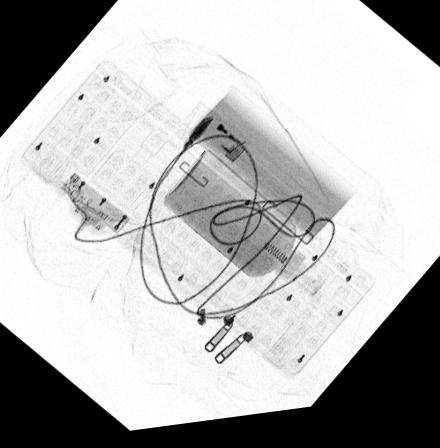Lighter: (187, 120, 250, 167)
